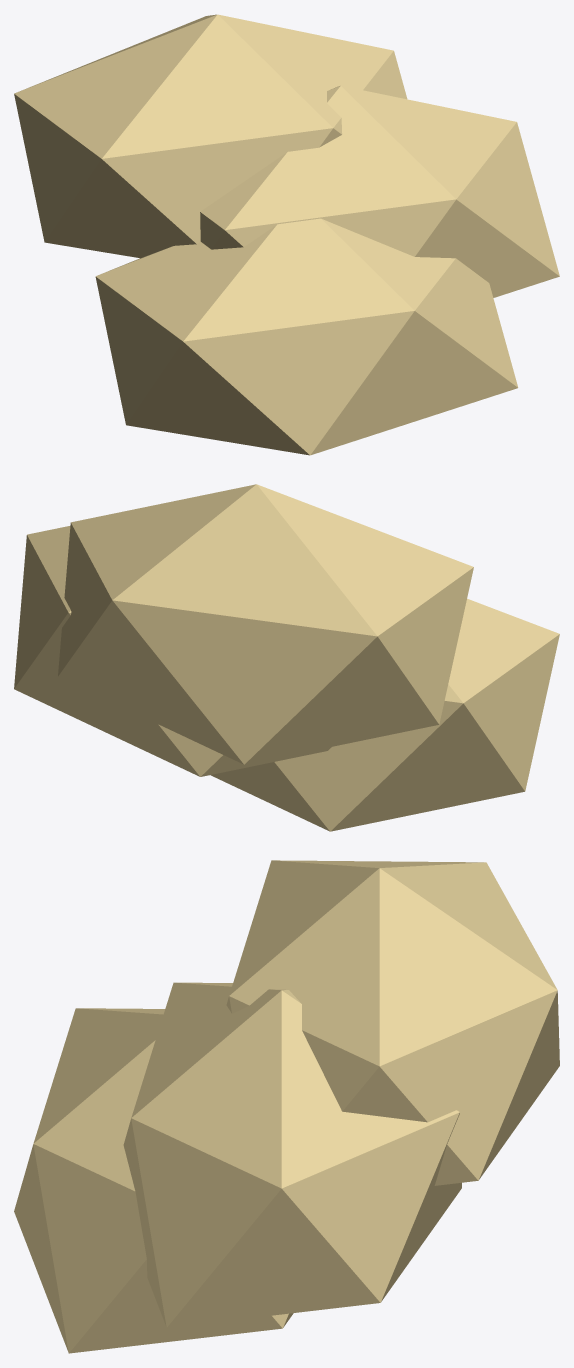
Rendered from item_047_cheese_m.glb.
3 renders of one model, top to bottom at view 1: azimuth 30°, elevation 25°; view 2: azimuth 150°, elevation 25°; view 3: azimuth 270°, elevation 25°, orthographic. The views are drawn at different scales.
Parts seen in each view (by area): view 1: item_047_cheese_m; view 2: item_047_cheese_m; view 3: item_047_cheese_m.
Part boxes in pixels (<box>): item_047_cheese_m: <box>14,14,559,455</box>; item_047_cheese_m: <box>14,484,559,831</box>; item_047_cheese_m: <box>14,860,559,1353</box>.
Bounding box in the file's own units: 0.3671 × 0.298 × 0.3348.
